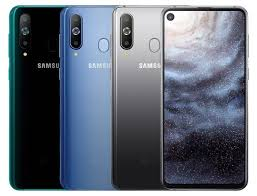samsung: (157, 7, 247, 191), (58, 6, 111, 191), (10, 4, 63, 189), (111, 5, 164, 190)
